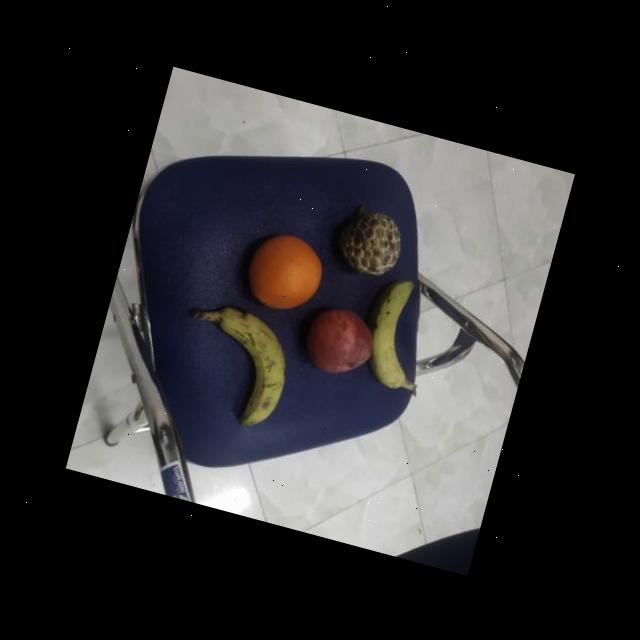Sakya fruit: (326, 198, 409, 284)
apple: (294, 298, 382, 388)
banana: (191, 298, 304, 434), (352, 272, 442, 399)
orange: (238, 225, 331, 318)
